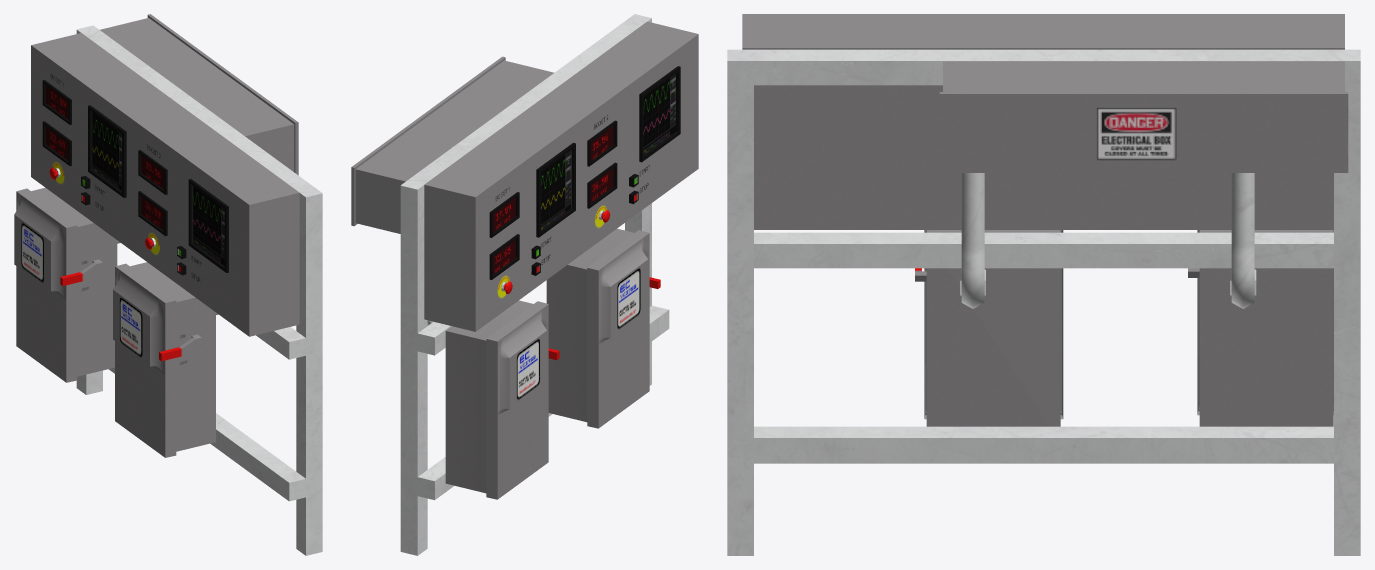
File: controlpanel.fbx
3 renders of one model, left to right at view 1: azimuth 30°, elevation 25°; view 2: azimuth 150°, elevation 25°; view 3: azimuth 270°, elevation 25°, orthographic. The views are drawn at different scales.
Parts seen in each view (by area): view 1: ControlPanel2; view 2: ControlPanel2; view 3: ControlPanel2.
Boxes of the visible parts, box(x1,y1,x2,y2) form: ControlPanel2: box(14, 14, 322, 555); ControlPanel2: box(351, 14, 698, 555); ControlPanel2: box(727, 14, 1360, 555).
Bounding box in the file's own units: 0.868 × 2.05 × 2.36.
